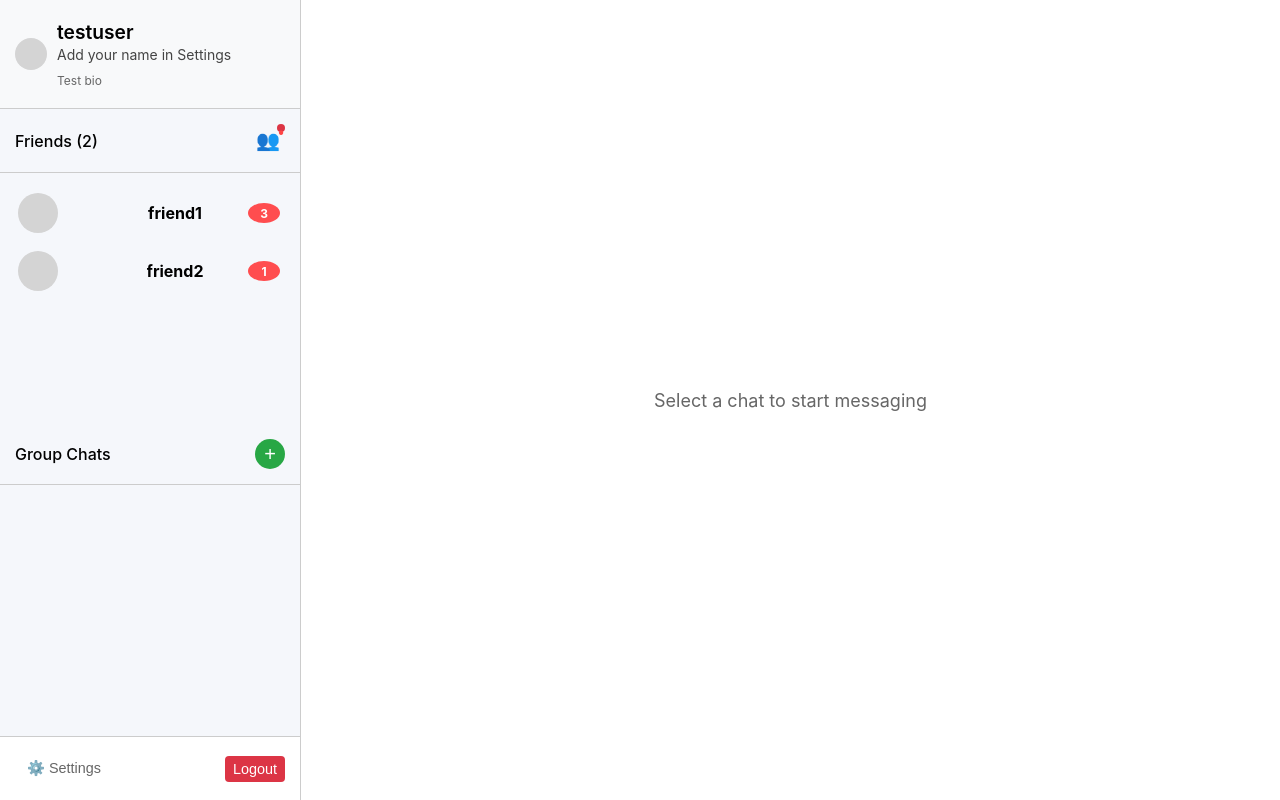
Dashboard Component Modal Tests › friend requests modal displays correctly
This screenshot has width=1280, height=800.
What coordinates should you click on to do the following:
click the button titled "Friend Requests"
I would click on:
 (268, 140)
Its box is [251,124,285,157].
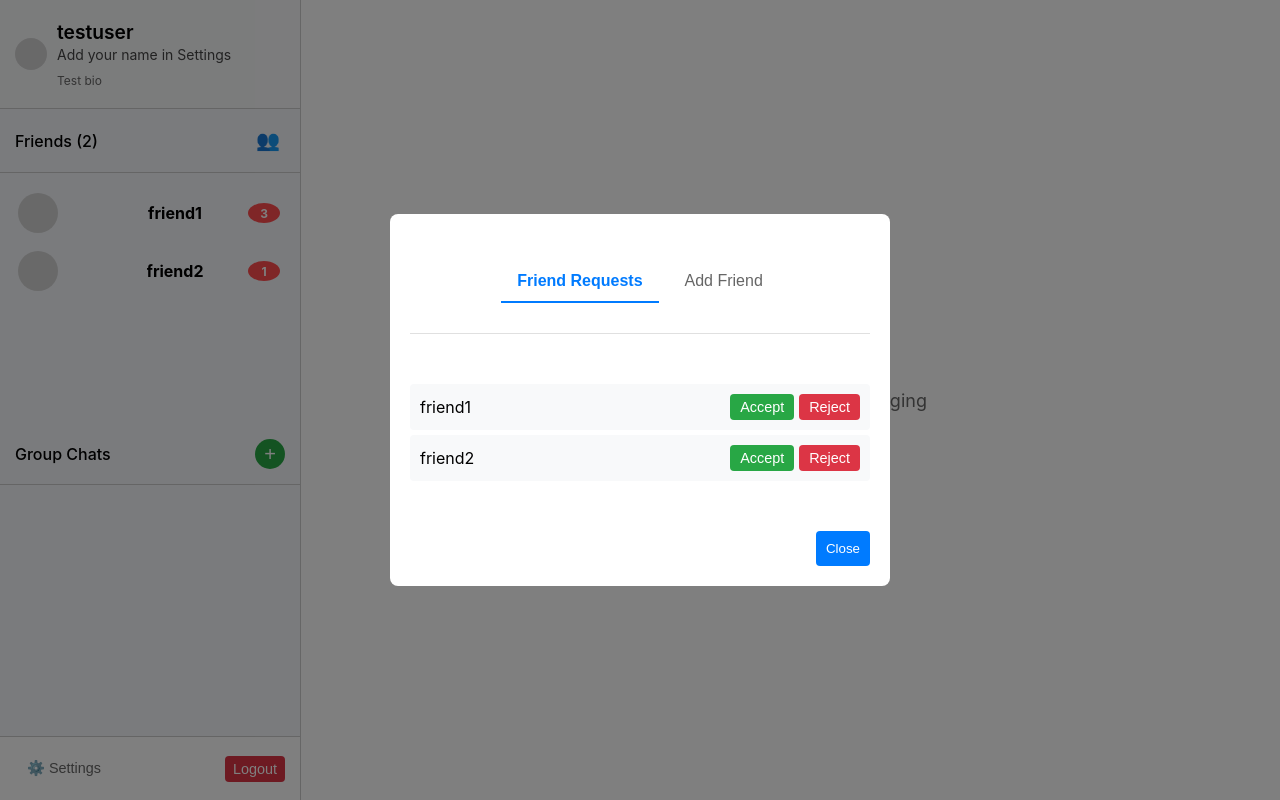
Expected: the button "Friend Requests" is shown, [501,264,659,298]
